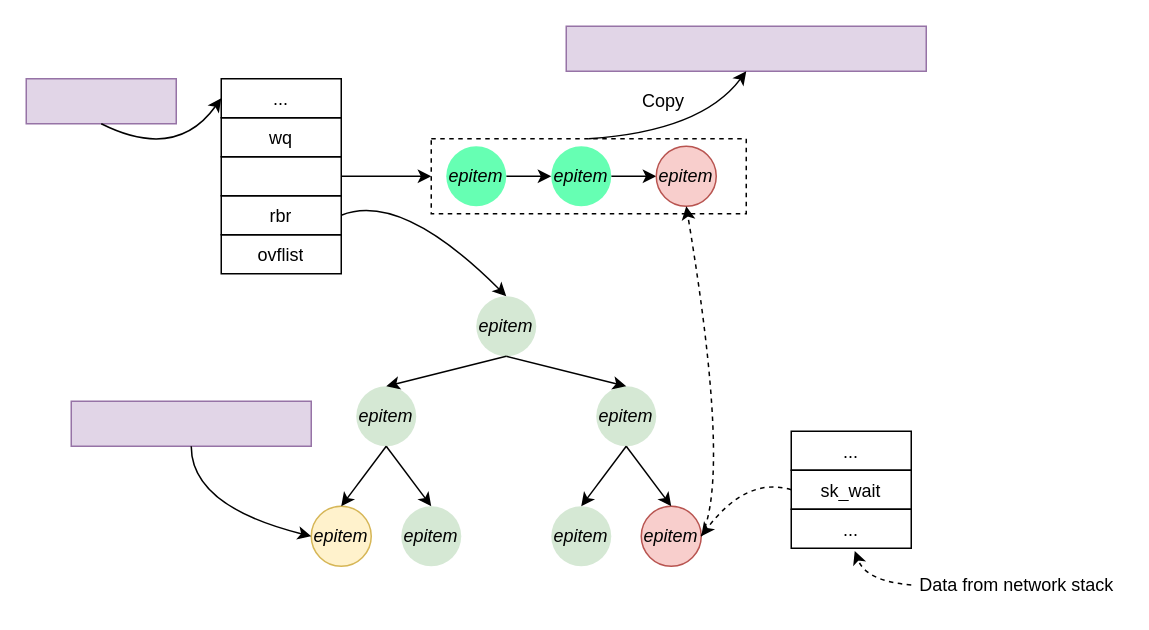
This 1149x630 diagram has some shape labels left out. The shapes that lost their labels are listed below. From the top down, each one's box as (x1, y1, x2, y2) in pixels, then its label:
(565, 25, 926, 71): epoll_wait(epfd, event, maxevents, timeout)
(25, 77, 176, 124): epoll_create1
(220, 155, 341, 196): relist
(70, 400, 311, 446): epoll_ctl(epfd, op, fd, event)
